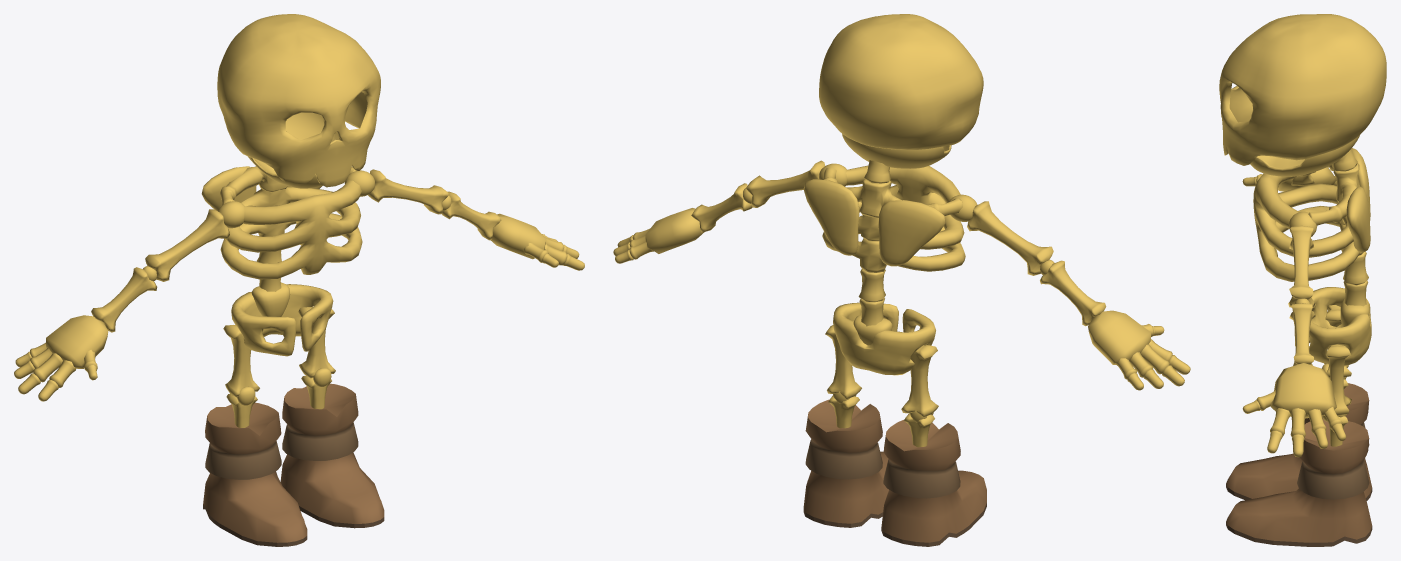
File: La Mano 1.fbx
The picture shows the model from 3 angles, left to right: view 1: azimuth 30°, elevation 25°; view 2: azimuth 150°, elevation 25°; view 3: azimuth 270°, elevation 25°; orthographic projection.
Parts seen in each view (by area): view 1: polySurface67; view 2: polySurface67; view 3: polySurface67.
Boxes of the visible parts, x1,y1,x2,y2 form: polySurface67: (14,14,584,546); polySurface67: (613,14,1190,546); polySurface67: (1219,14,1386,546).
Size of the model in its own units: 18.86 by 15.54 by 4.84.
